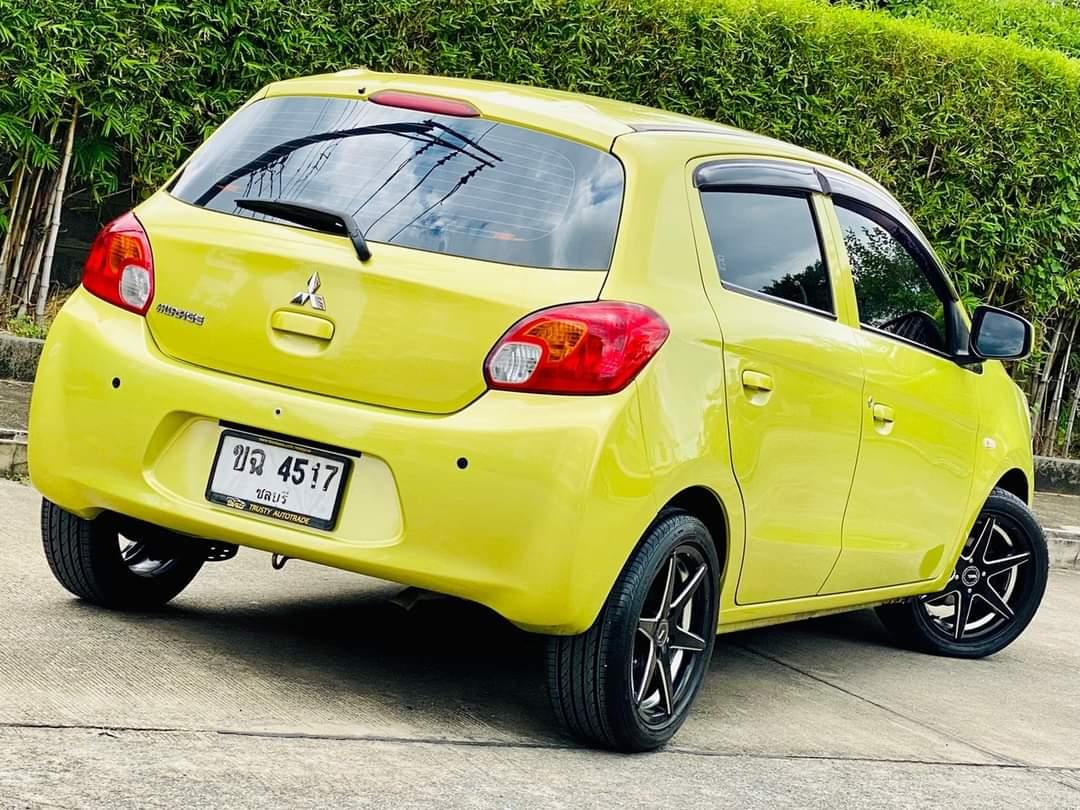license-plate: (205, 424, 356, 533)
